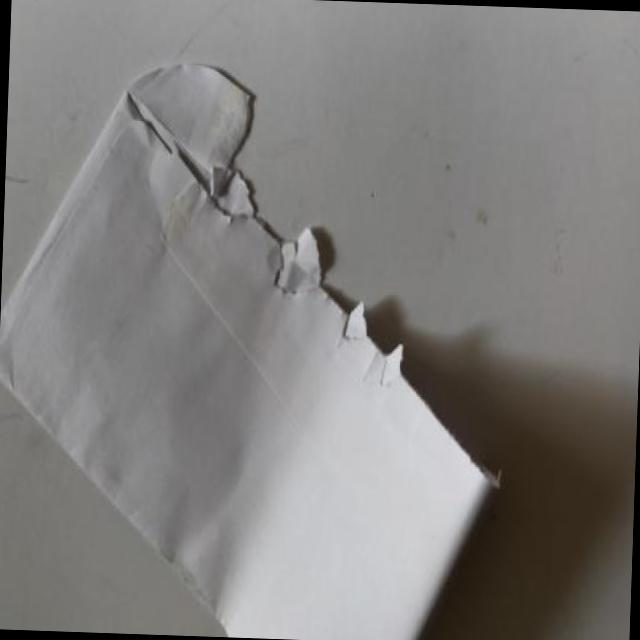giay: (0, 61, 503, 640)
